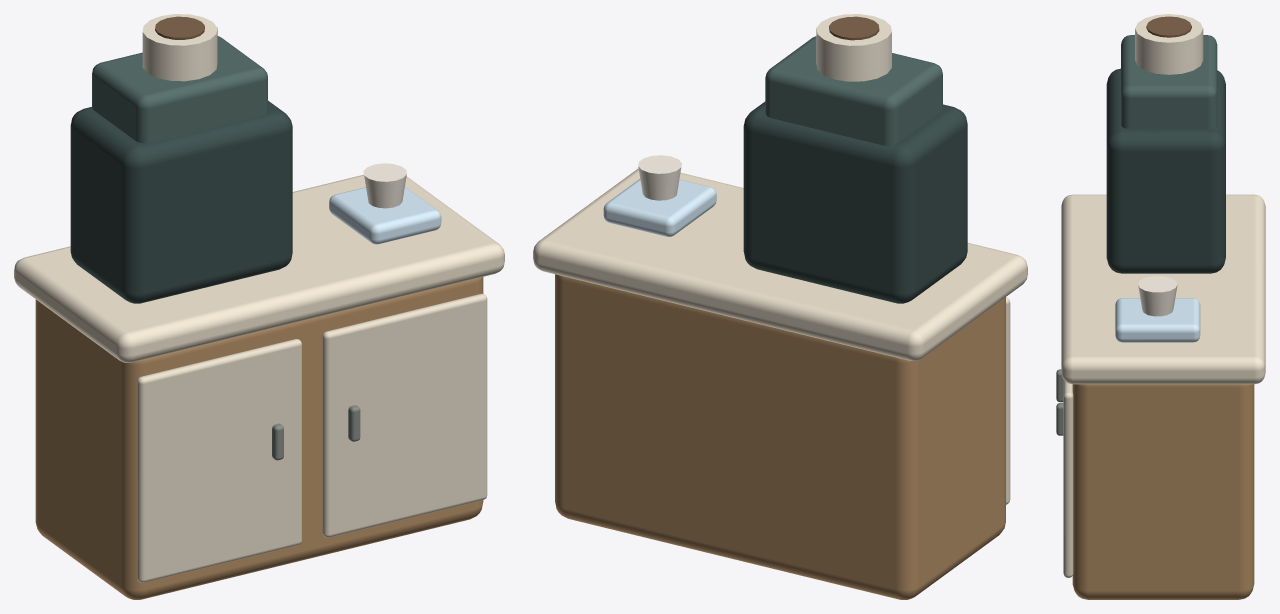
The model's file is coffee-station.glb.
3 renders of one model, left to right at view 1: azimuth 30°, elevation 25°; view 2: azimuth 150°, elevation 25°; view 3: azimuth 270°, elevation 25°, orthographic. The views are drawn at different scales.
Visible parts, largest first — view 1: coffee-station; view 2: coffee-station; view 3: coffee-station.
Part boxes in pixels (bbox=[...]): coffee-station: bbox=[14, 14, 504, 599]; coffee-station: bbox=[533, 14, 1027, 599]; coffee-station: bbox=[1056, 14, 1265, 599].
Bounding box in the file's own units: 1.42 × 1.81 × 0.7375.
